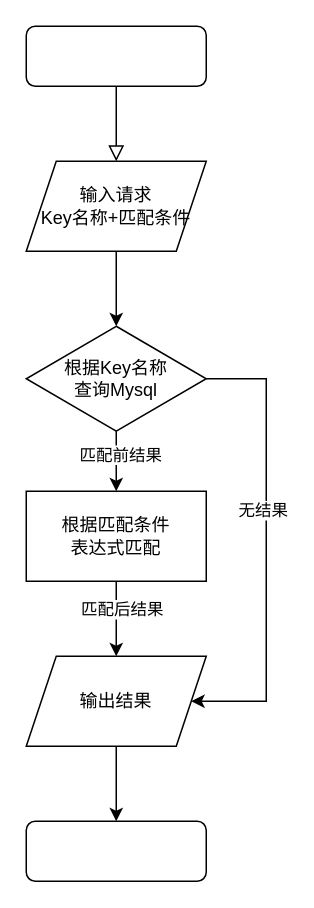
This 314x908 diagram has some shape labels left out. The box of each missing label's shape, as (x1, y1, x2, y2) in pixels:
开始: (25, 25, 206, 86)
结束: (25, 820, 206, 881)
